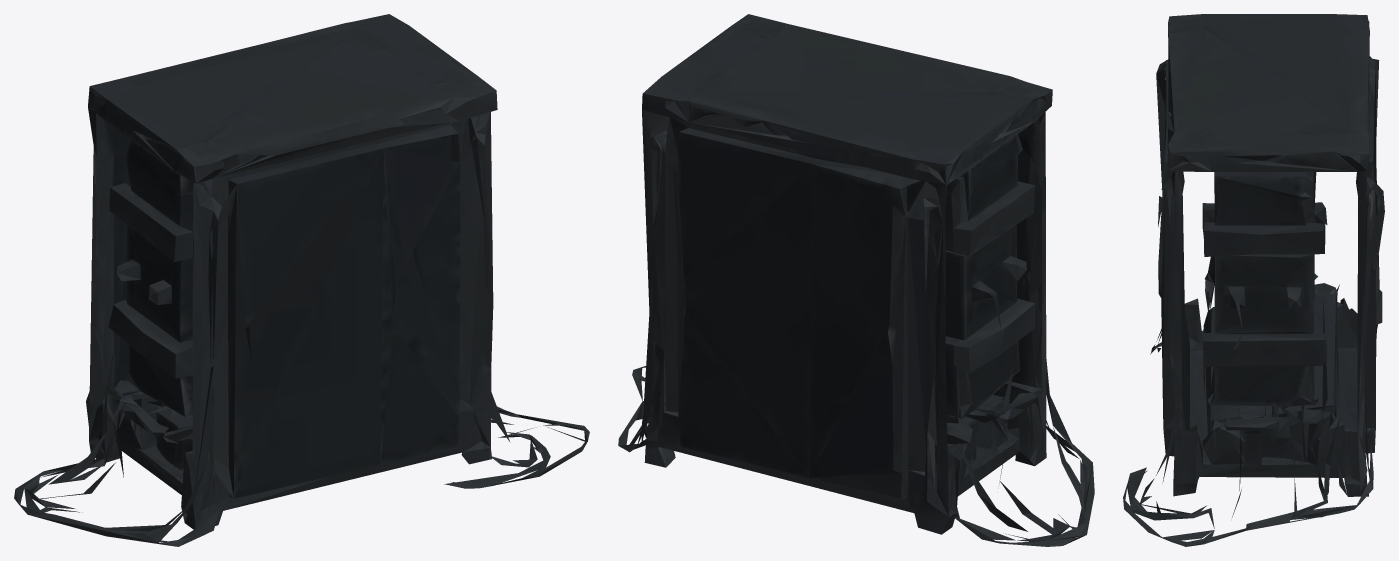
Rendered from server_rack.glb.
3 views of the same model, side by side, from view 1: azimuth 30°, elevation 25°; view 2: azimuth 150°, elevation 25°; view 3: azimuth 270°, elevation 25° (orthographic). The views are drawn at different scales.
Size of the model in its own units: 1.89 by 1.35 by 0.9101.
Materials: 1 (1 with a texture image).
